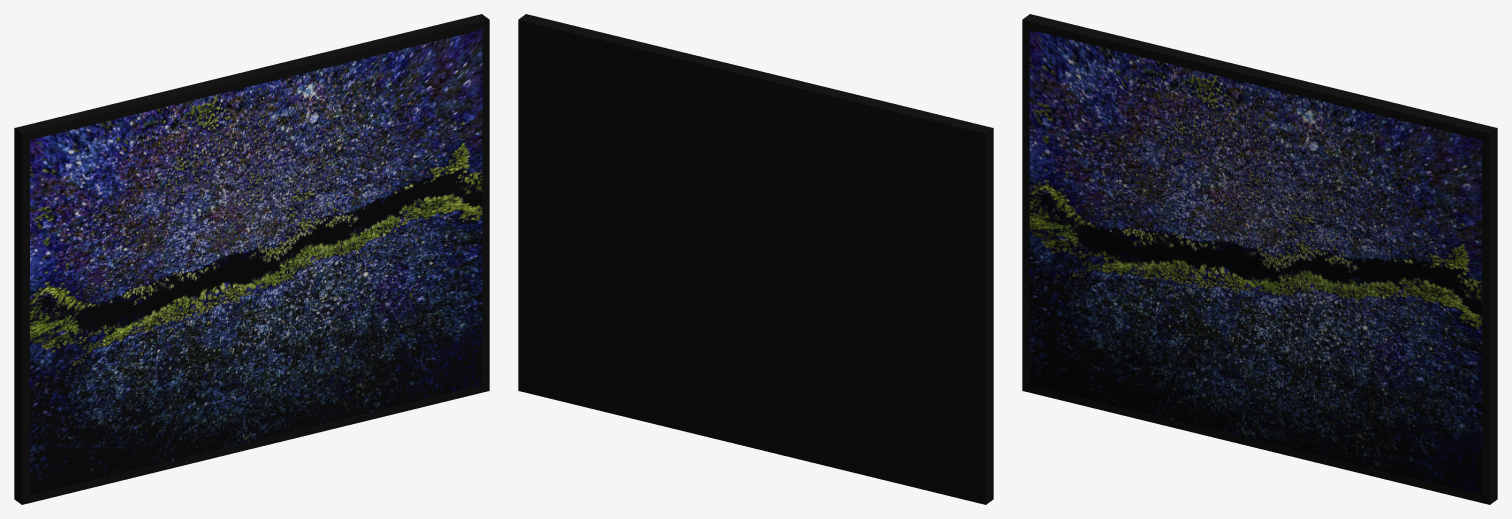
Rendered from cosmic-return.glb.
3 renders of one model, left to right at view 1: azimuth 30°, elevation 25°; view 2: azimuth 150°, elevation 25°; view 3: azimuth 330°, elevation 25°, orthographic.
Bounding box in the file's own units: 1.1 × 0.8361 × 0.0332.
2 materials, 1 textured.
